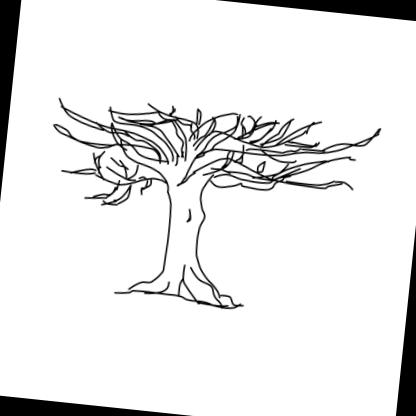root_none: (124, 265, 239, 350)
trunk_straight: (162, 202, 212, 270)
